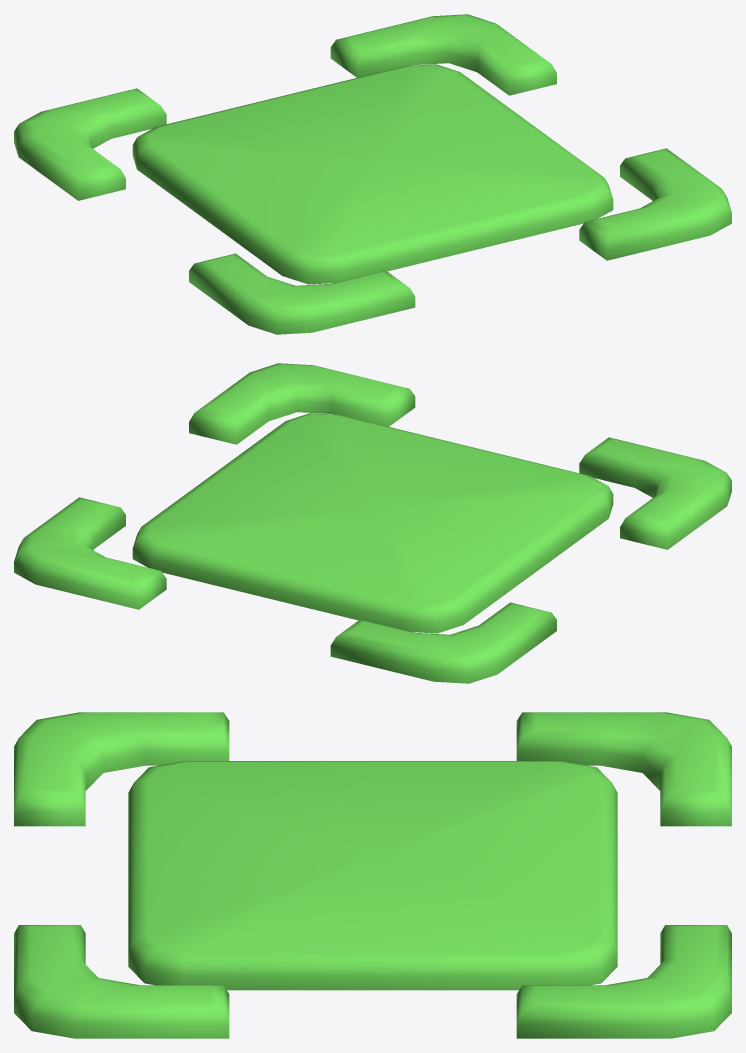
File: VFX_Build_Area.fbx
3 views of the same model, one above another, from view 1: azimuth 30°, elevation 25°; view 2: azimuth 150°, elevation 25°; view 3: azimuth 270°, elevation 25° (orthographic). The views are drawn at different scales.
Parts seen in each view (by area): view 1: VFX_Build_Area; view 2: VFX_Build_Area; view 3: VFX_Build_Area.
Part boxes in pixels (box(x1,y1,x2,y2)): VFX_Build_Area: box(14, 14, 731, 334); VFX_Build_Area: box(14, 363, 731, 683); VFX_Build_Area: box(14, 712, 731, 1038).
Bounding box in the file's own units: 732 × 32.98 × 732.
